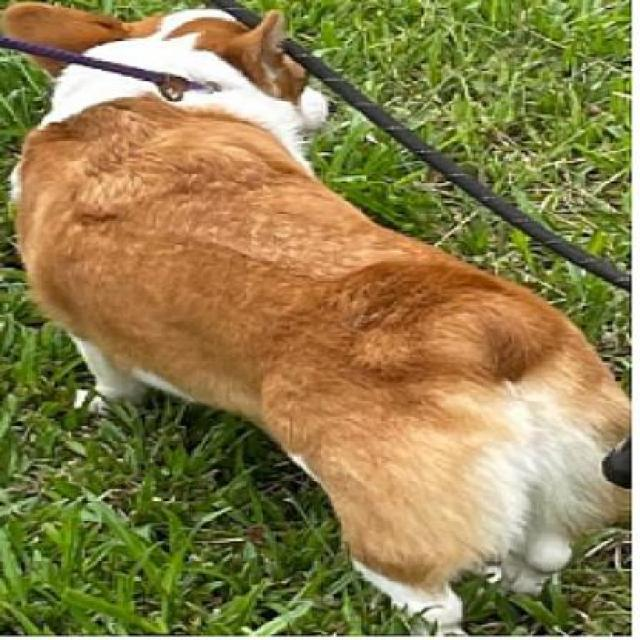Dog: (0, 0, 626, 634)
